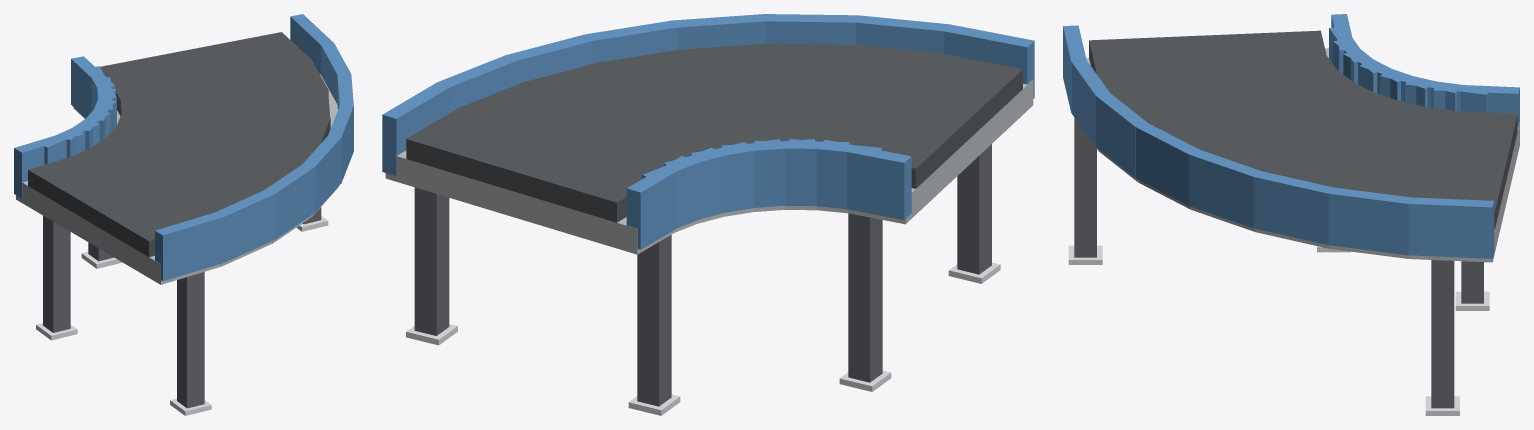
The model's file is powered-belt-conveyor-90-degree-curve.glb.
The picture shows the model from 3 angles, left to right: view 1: azimuth 30°, elevation 25°; view 2: azimuth 150°, elevation 25°; view 3: azimuth 270°, elevation 25°; orthographic projection. The views are drawn at different scales.
Visible parts, largest first — view 1: parcel-depot-and-sorting-hall-belt-conveyor-curve; view 2: parcel-depot-and-sorting-hall-belt-conveyor-curve; view 3: parcel-depot-and-sorting-hall-belt-conveyor-curve.
Boxes of the visible parts, x1,y1,x2,y2 form: parcel-depot-and-sorting-hall-belt-conveyor-curve: (14,14,353,415); parcel-depot-and-sorting-hall-belt-conveyor-curve: (382,14,1034,415); parcel-depot-and-sorting-hall-belt-conveyor-curve: (1063,14,1519,415).
Bounding box in the file's own units: 1.61 × 0.82 × 1.61.
